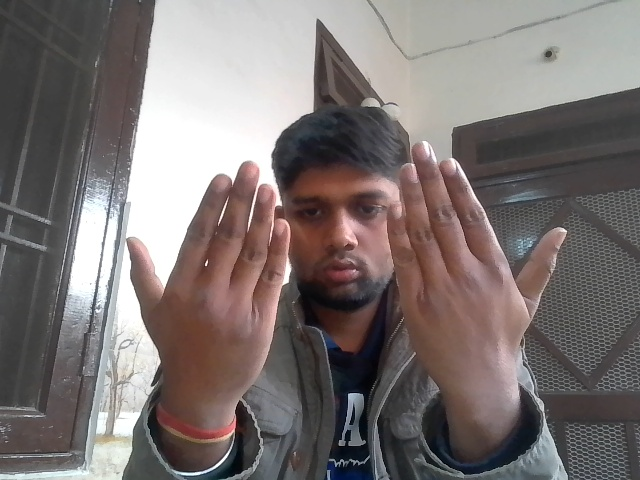ThankYou: (114, 129, 596, 413)
